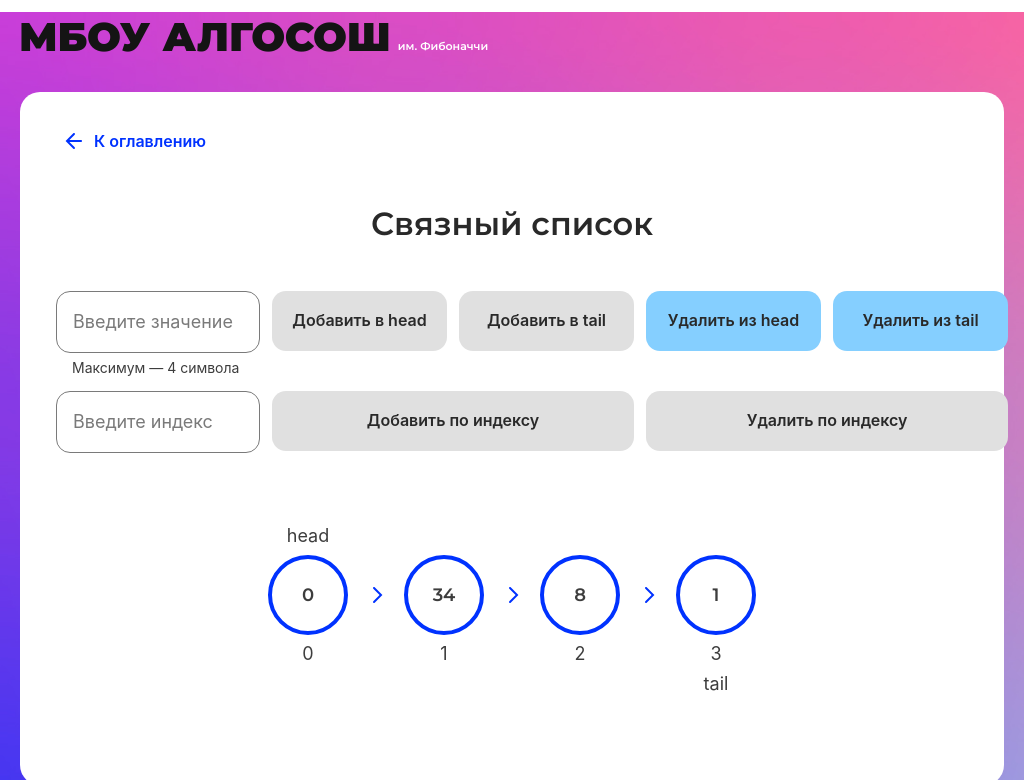
Test: Тестирование страницы Связный список › Корректность удаления элемента из tail
This screenshot has width=1024, height=780.
Click the button "Удалить из tail" at (921, 321), box [833, 291, 1008, 351]
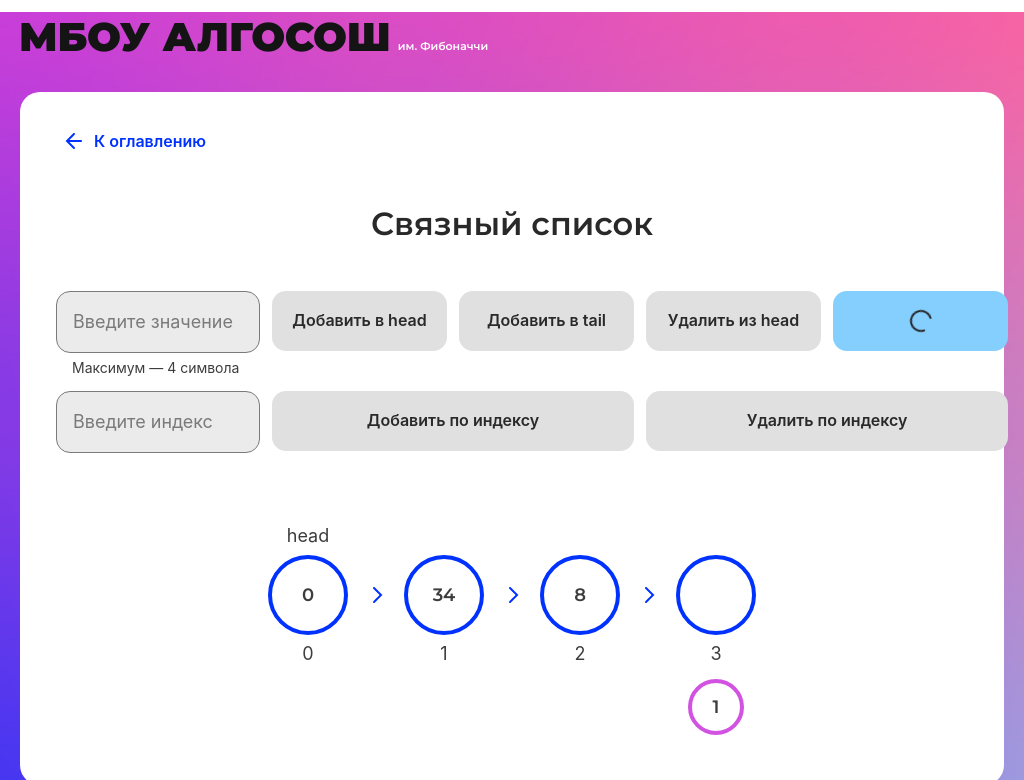
expect the element showing "1" is shown: met, box [688, 679, 744, 735]
Wait "1000"
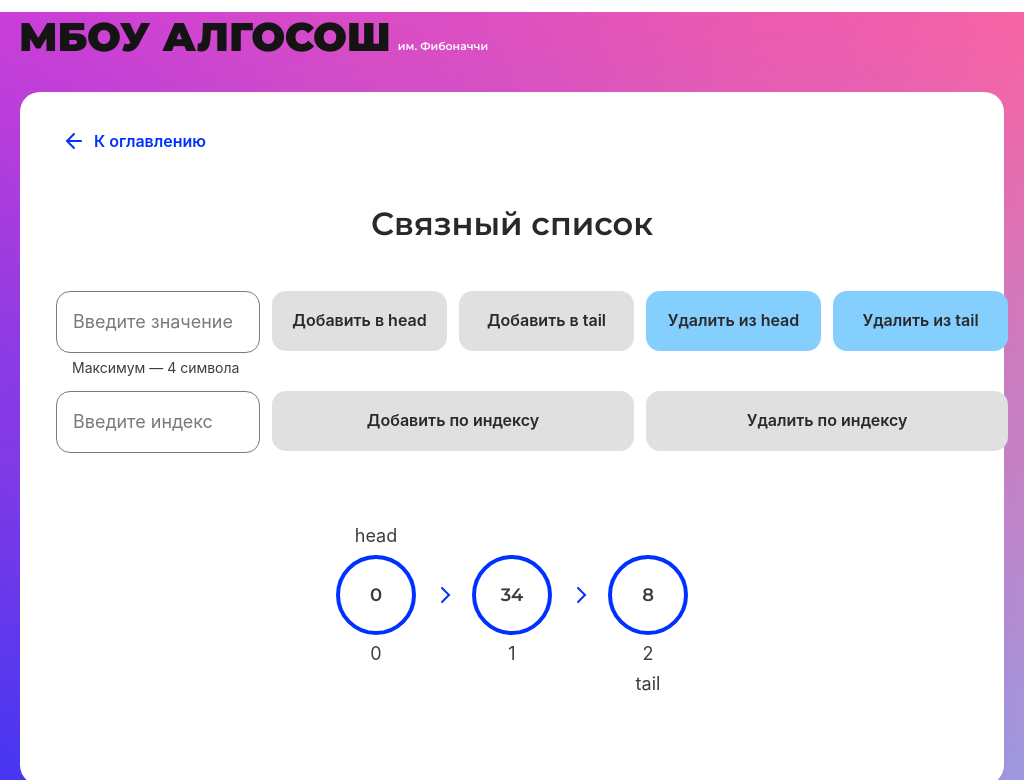
expect the element showing "8" is shown: met, box [608, 555, 688, 635]
expect the text "tail" is shown: met, box [636, 673, 660, 695]
